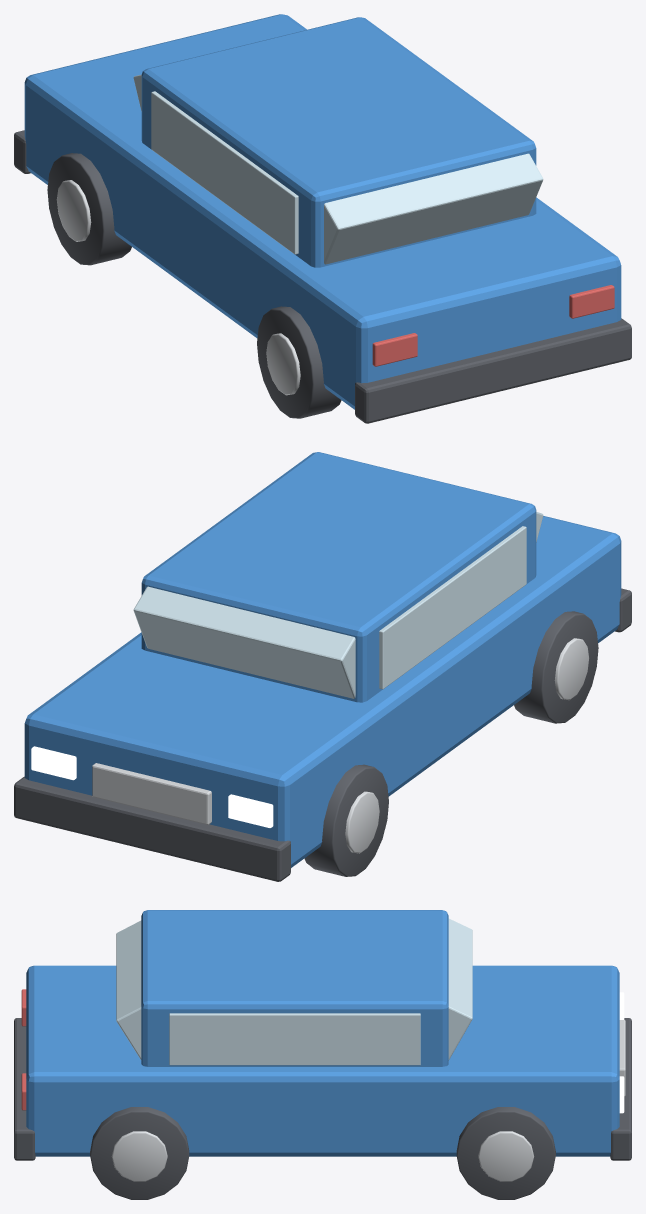
Rendered from SM_Hanoi_Car.fbx.
3 renders of one model, top to bottom at view 1: azimuth 30°, elevation 25°; view 2: azimuth 150°, elevation 25°; view 3: azimuth 270°, elevation 25°, orthographic. The views are drawn at different scales.
Parts seen in each view (by area): view 1: Car_Body, Car_Cabin, Car_RearGlass, Car_RearBumper, Car_SideWinL, Tire_-0.82_-1.18, Tire_-0.82_1.18, Hub_-0.82_-1.18, Hub_-0.82_1.18, Taillight_-0.64, Taillight_0.64; view 2: Car_Body, Car_Cabin, Car_Windshield, Car_FrontBumper, Car_SideWinL, Tire_-0.82_-1.18, Tire_-0.82_1.18, Car_Grille, Hub_-0.82_1.18, Hub_-0.82_-1.18, Headlight_0.64, Headlight_-0.64; view 3: Car_Body, Car_Cabin, Car_SideWinR, Tire_0.82_-1.18, Tire_0.82_1.18, Car_RearGlass, Car_Windshield, Hub_0.82_-1.18, Hub_0.82_1.18, Car_RearBumper, Car_FrontBumper, Car_Grille.
Part boxes in pixels (<box>): Car_Body: <box>24,14,621,409</box>; Car_Cabin: <box>141,17,536,267</box>; Car_RearGlass: <box>324,153,543,264</box>; Car_RearBumper: <box>355,318,631,423</box>; Car_SideWinL: <box>151,91,298,254</box>; Tire_-0.82_-1.18: <box>257,306,341,418</box>; Tire_-0.82_1.18: <box>47,153,131,265</box>; Hub_-0.82_-1.18: <box>266,333,300,395</box>; Hub_-0.82_1.18: <box>56,180,91,241</box>; Taillight_-0.64: <box>372,333,417,366</box>; Taillight_0.64: <box>569,285,614,318</box>; Car_Body: <box>24,516,621,867</box>; Car_Cabin: <box>141,452,536,702</box>; Car_Windshield: <box>133,586,355,698</box>; Car_FrontBumper: <box>14,776,290,881</box>; Car_SideWinL: <box>379,526,526,689</box>; Tire_-0.82_-1.18: <box>514,611,598,723</box>; Tire_-0.82_1.18: <box>304,764,388,876</box>; Car_Grille: <box>92,763,211,824</box>; Hub_-0.82_1.18: <box>345,791,379,853</box>; Hub_-0.82_-1.18: <box>554,638,589,699</box>; Headlight_0.64: <box>31,746,76,780</box>; Headlight_-0.64: <box>228,794,273,827</box>; Car_Body: <box>26,965,619,1156</box>; Car_Cabin: <box>141,910,448,1066</box>; Car_SideWinR: <box>169,1013,420,1065</box>; Tire_0.82_-1.18: <box>90,1107,189,1199</box>; Tire_0.82_1.18: <box>456,1107,555,1199</box>; Car_RearGlass: <box>116,920,141,1059</box>; Car_Windshield: <box>448,918,472,1060</box>; Hub_0.82_-1.18: <box>111,1131,167,1181</box>; Hub_0.82_1.18: <box>478,1131,534,1181</box>; Car_RearBumper: <box>14,1018,35,1160</box>; Car_FrontBumper: <box>610,1018,631,1160</box>; Car_Grille: <box>619,1020,625,1096</box>.
Bounding box in the file's own units: 1.9 × 1.31 × 3.98.
